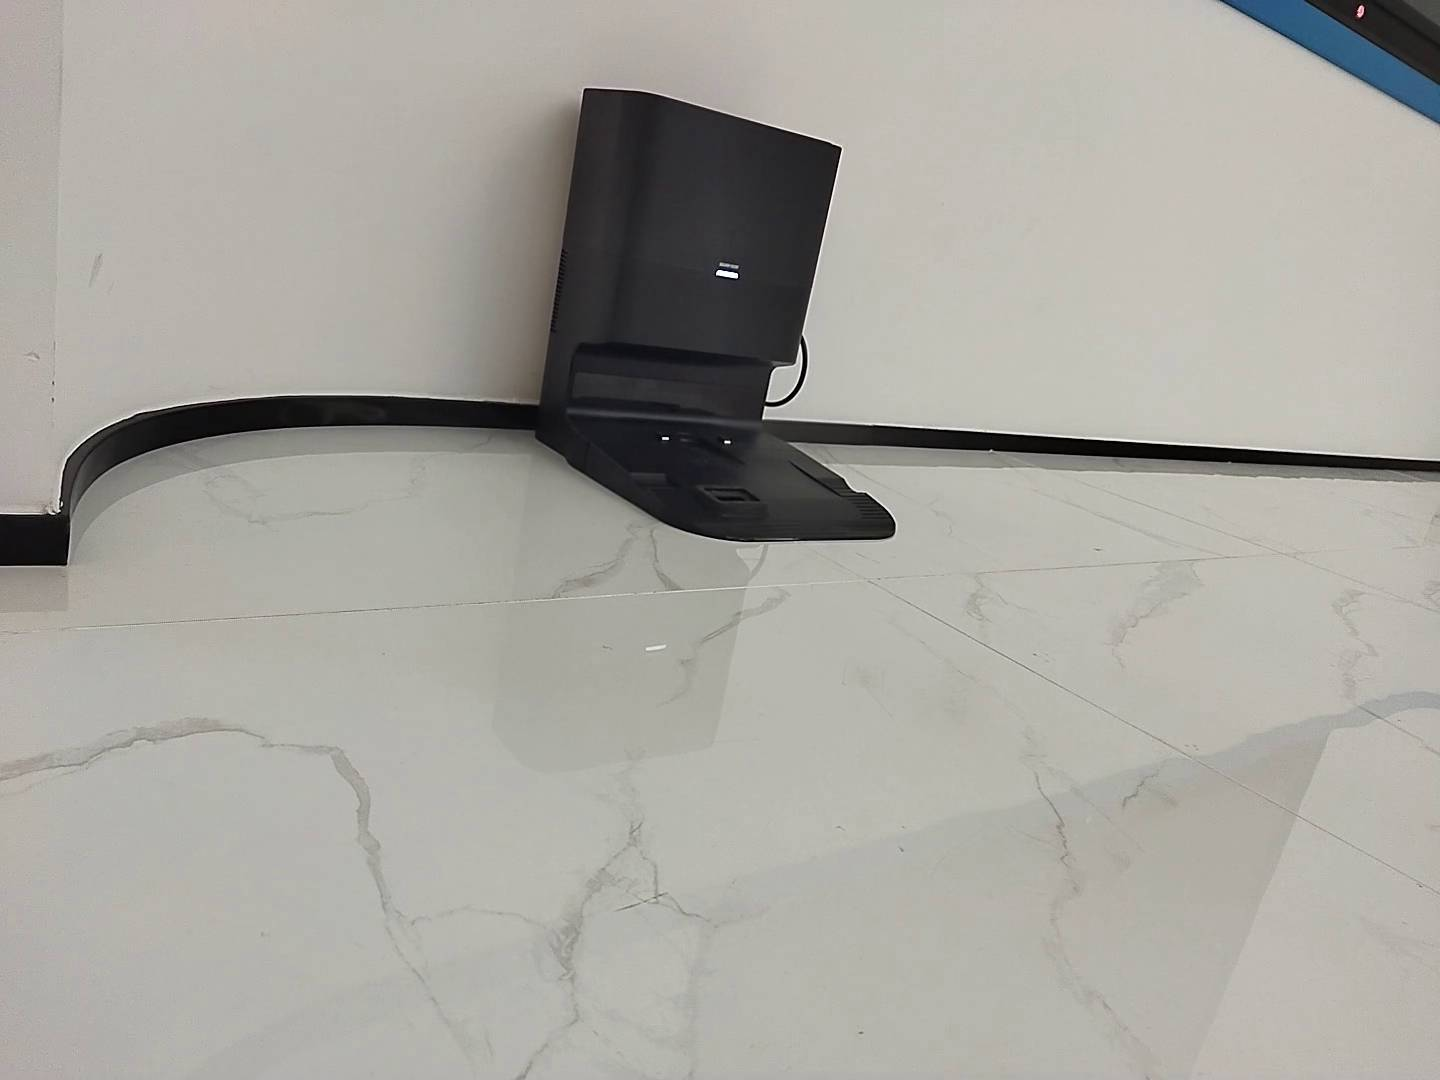dust collecting barrel: (533, 86, 898, 545)
